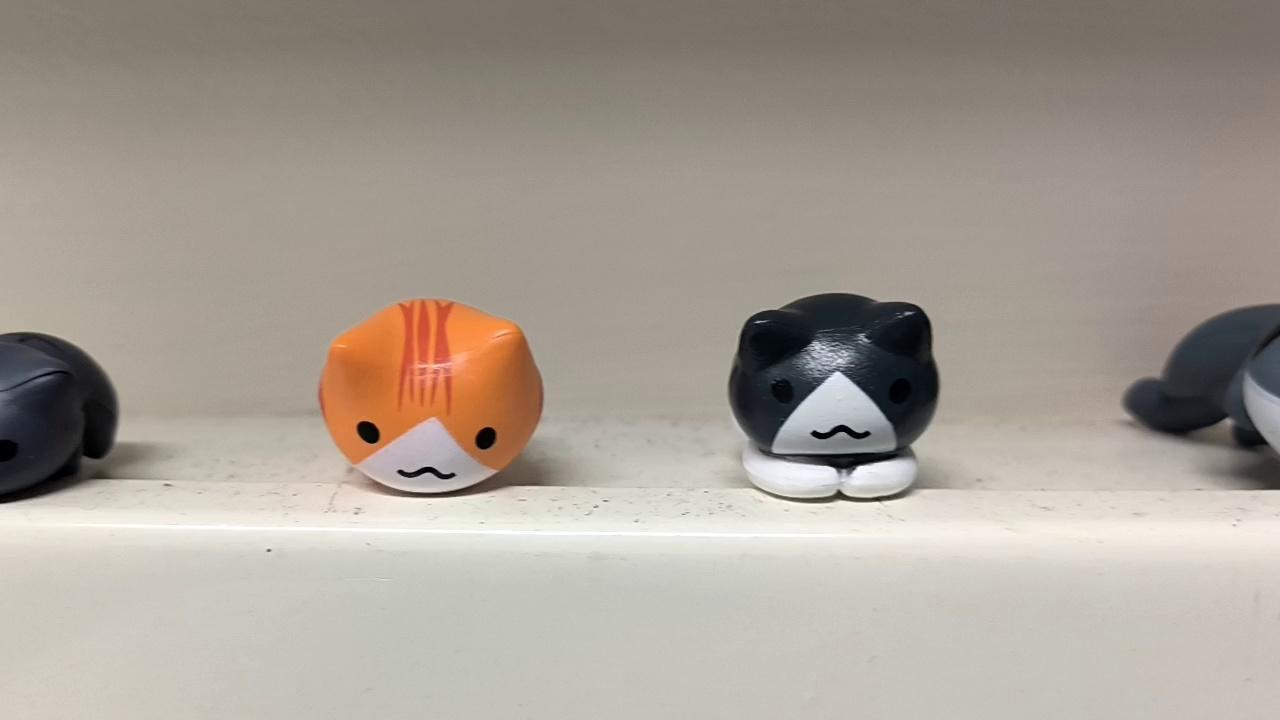pet: (728, 288, 939, 503), (321, 294, 540, 494), (1124, 301, 1280, 490), (0, 324, 121, 503)
